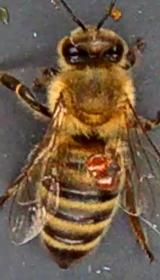varroa_mite: (80, 145, 112, 171), (97, 174, 119, 194)
